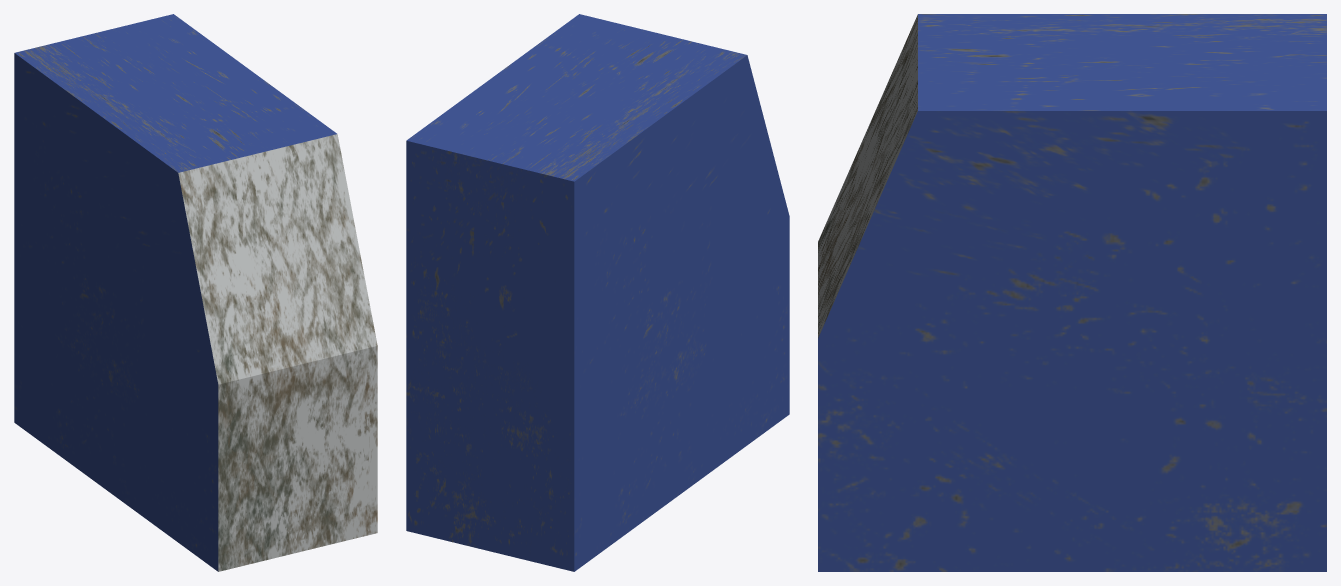
The model's file is welder.glb.
The picture shows the model from 3 angles, left to right: view 1: azimuth 30°, elevation 25°; view 2: azimuth 150°, elevation 25°; view 3: azimuth 270°, elevation 25°; orthographic projection. The views are drawn at different scales.
Parts seen in each view (by area): view 1: Cube.050; view 2: Cube.050; view 3: Cube.050.
Part boxes in pixels (box(x1,y1,x2,y2)): Cube.050: box(14, 14, 377, 571); Cube.050: box(406, 14, 789, 571); Cube.050: box(818, 14, 1326, 571).
Size of the model in its own units: 0.9018 by 2 by 2.
2 materials, 2 textured.
